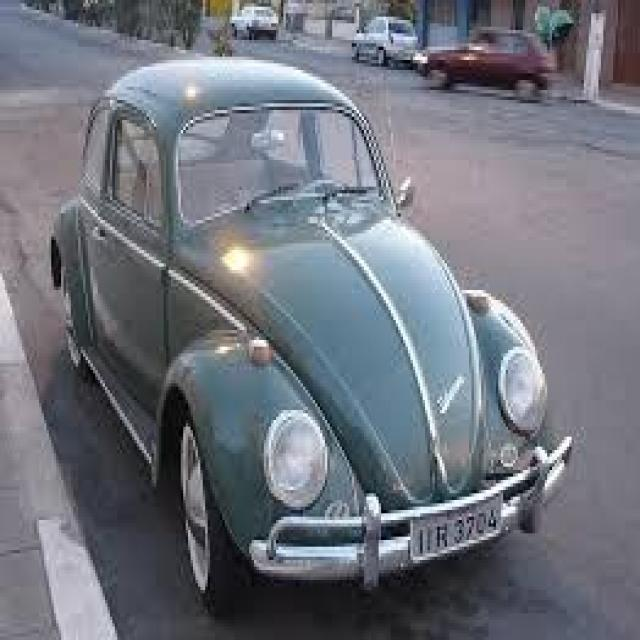0: (428, 32, 552, 102), (349, 13, 416, 68), (227, 7, 286, 43)
cars: (28, 51, 584, 600)
